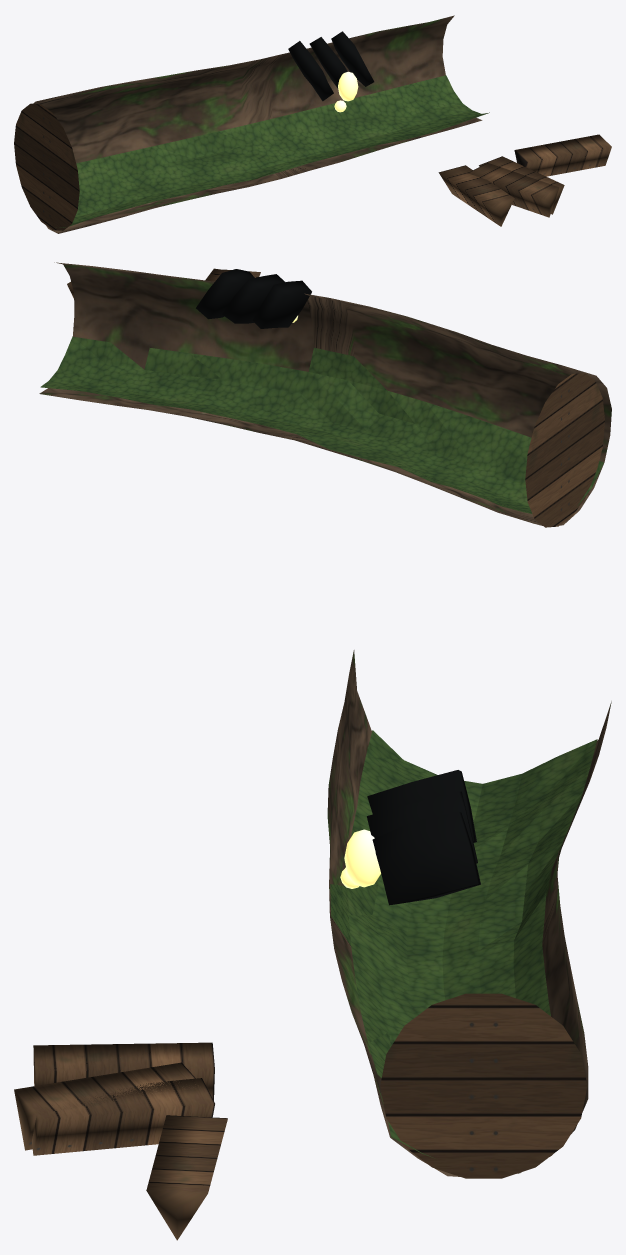
File: gather_logging_point.glb
The picture shows the model from 3 angles, top to bottom: view 1: azimuth 30°, elevation 25°; view 2: azimuth 150°, elevation 25°; view 3: azimuth 270°, elevation 25°; orthographic projection. The views are drawn at different scales.
Parts seen in each view (by area): view 1: gather_logging_point__bark, gather_logging_point__moss, gather_logging_point__wood, gather_logging_point__dark_void, gather_logging_point__glow_warm; view 2: gather_logging_point__bark, gather_logging_point__moss, gather_logging_point__wood, gather_logging_point__dark_void; view 3: gather_logging_point__wood, gather_logging_point__moss, gather_logging_point__bark, gather_logging_point__dark_void, gather_logging_point__glow_warm.
Boxes of the visible parts, x1=… form: gather_logging_point__bark: x1=33, y1=15, x2=482, y2=233; gather_logging_point__moss: x1=56, y1=75, x2=489, y2=227; gather_logging_point__wood: x1=14, y1=103, x2=611, y2=230; gather_logging_point__dark_void: x1=288, y1=31, x2=374, y2=101; gather_logging_point__glow_warm: x1=334, y1=71, x2=358, y2=112; gather_logging_point__bark: x1=39, y1=262, x2=611, y2=525; gather_logging_point__moss: x1=40, y1=336, x2=603, y2=513; gather_logging_point__wood: x1=67, y1=268, x2=604, y2=527; gather_logging_point__dark_void: x1=196, y1=269, x2=311, y2=328; gather_logging_point__wood: x1=14, y1=993, x2=587, y2=1240; gather_logging_point__moss: x1=330, y1=730, x2=597, y2=1158; gather_logging_point__bark: x1=327, y1=650, x2=611, y2=1176; gather_logging_point__dark_void: x1=367, y1=770, x2=480, y2=905; gather_logging_point__glow_warm: x1=340, y1=829, x2=380, y2=888.
Size of the model in its own units: 2.73 by 0.7163 by 1.5.
Materials: 5 (3 with a texture image).
